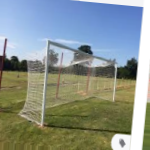goals: (18, 38, 120, 129)
